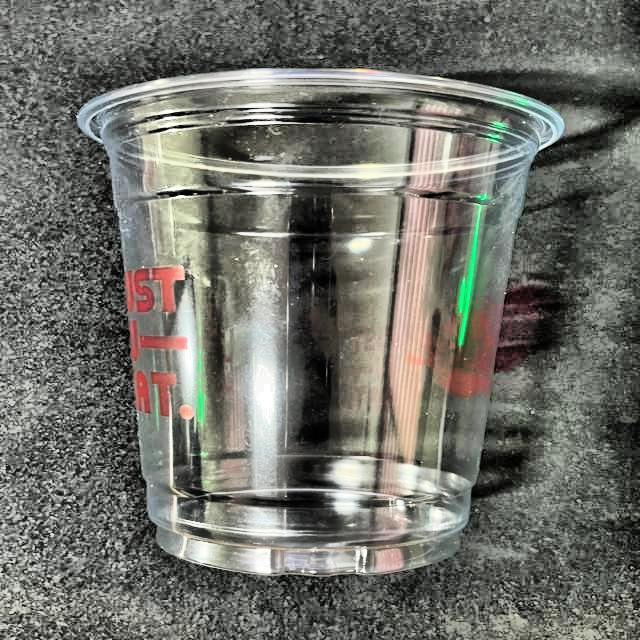plastic cup: (66, 62, 566, 581)
